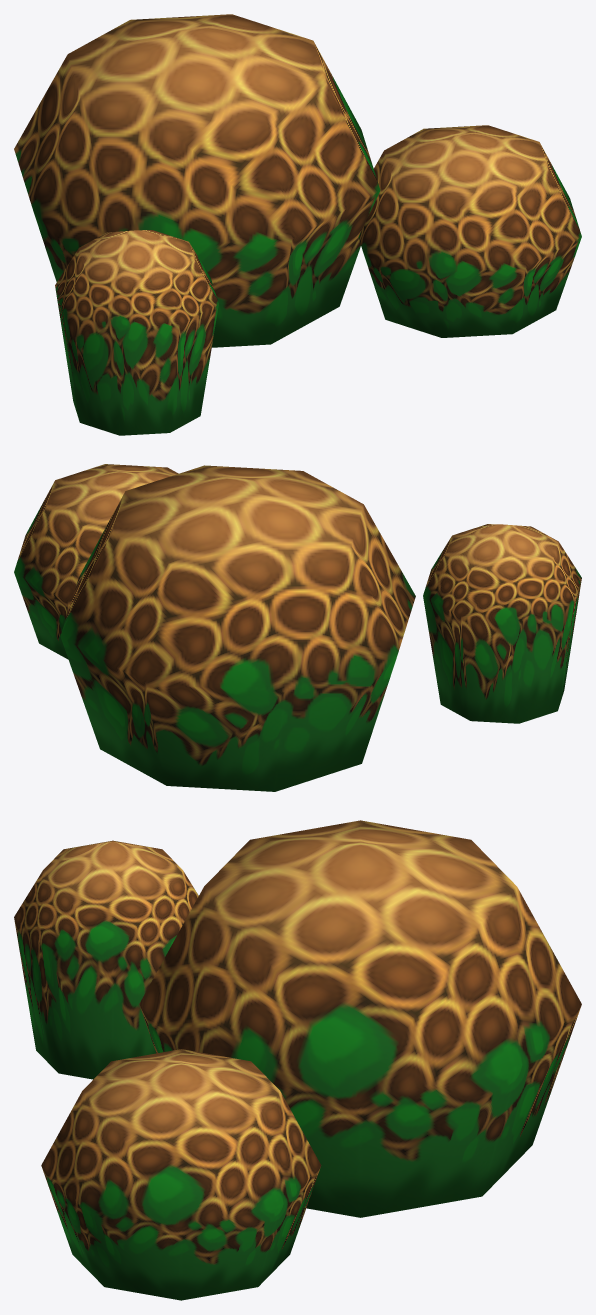
File: Coral_27_Group.FBX
3 renders of one model, top to bottom at view 1: azimuth 30°, elevation 25°; view 2: azimuth 150°, elevation 25°; view 3: azimuth 270°, elevation 25°, orthographic. The views are drawn at different scales.
Visible parts, largest first — view 1: Coral_27_Group; view 2: Coral_27_Group; view 3: Coral_27_Group.
Part boxes in pixels (left/top/right/bottom): Coral_27_Group: left=14, top=14, right=581, bottom=435; Coral_27_Group: left=14, top=464, right=581, bottom=791; Coral_27_Group: left=14, top=820, right=581, bottom=1300.
Bounding box in the file's own units: 107 × 48.79 × 83.99.
